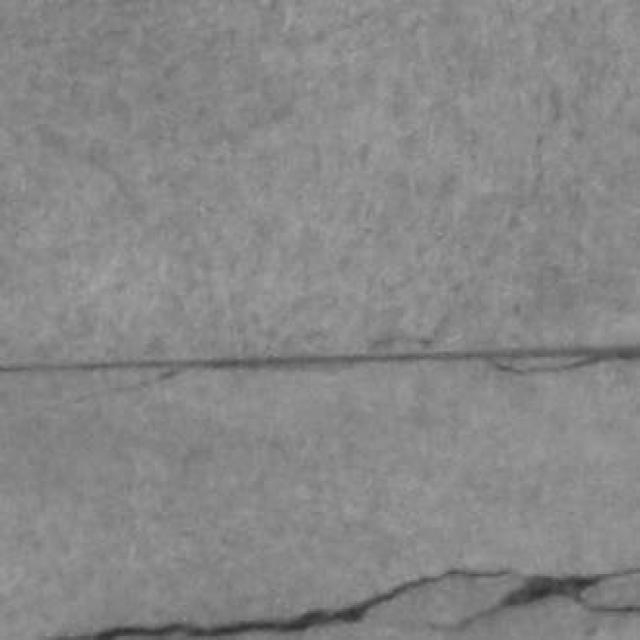crack: (49, 569, 639, 639), (0, 344, 639, 374), (489, 355, 603, 374)
